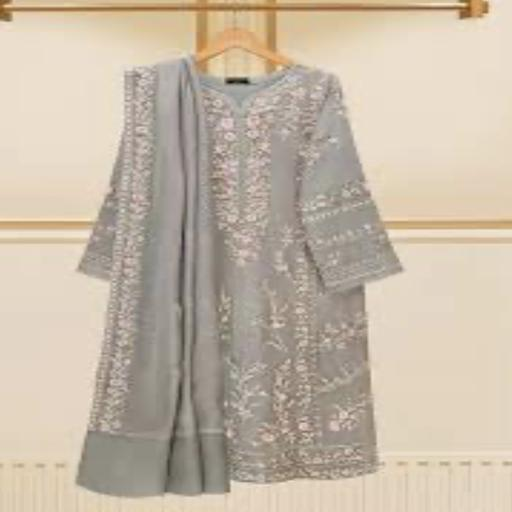Dupatta: (72, 53, 227, 491)
Kameez: (82, 55, 403, 485)
